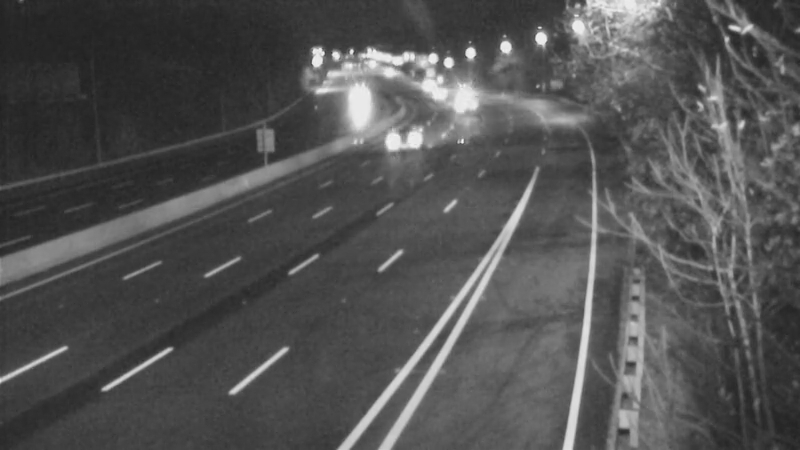vehicle: (399, 60, 449, 110), (416, 70, 466, 120), (435, 75, 485, 125), (384, 108, 434, 158), (331, 74, 381, 124)
